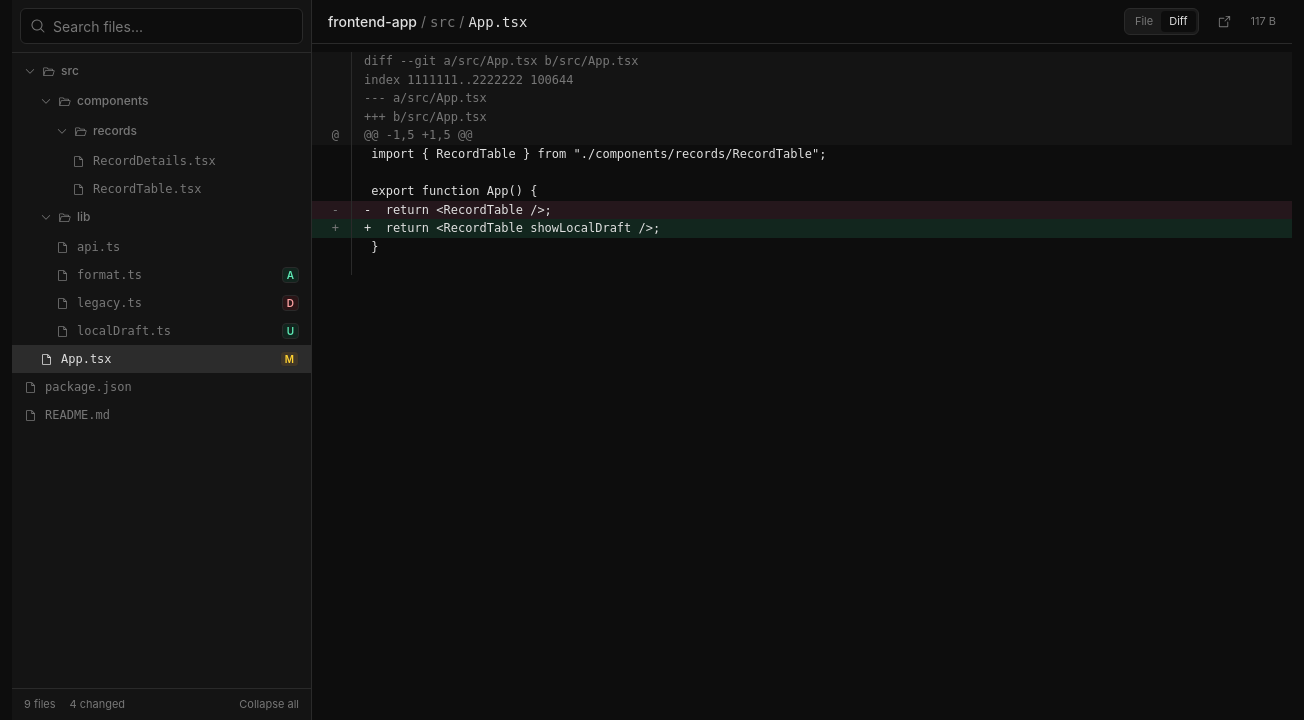
RepositoryExplorerPanel › opens file search with Cmd+F and navigates matches
The image size is (1304, 720).
Check: the text "+ return <RecordTable showLocalDraft />;" is shown, box [364,221,660,235]
Click the button "File" at (1144,22), box [1127,11,1161,32]
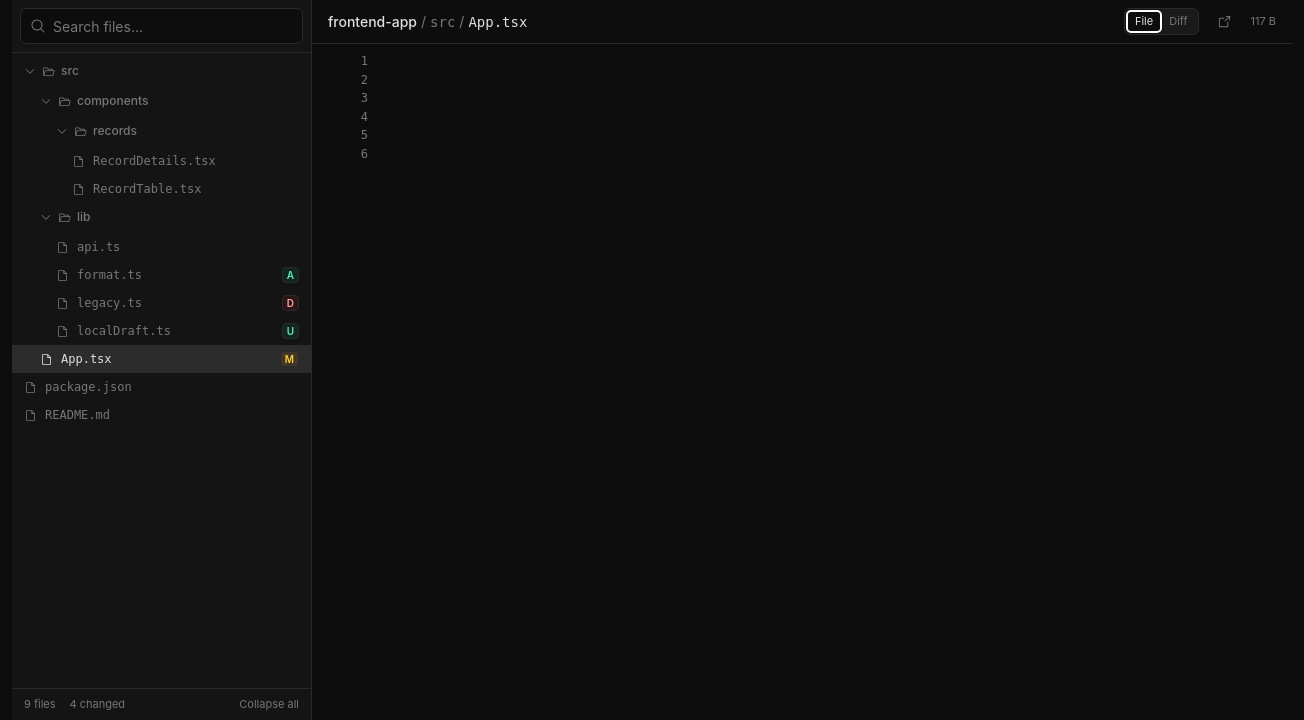
Check: the button named "Select line 4" is shown, box [312,108,1292,126]
Press f
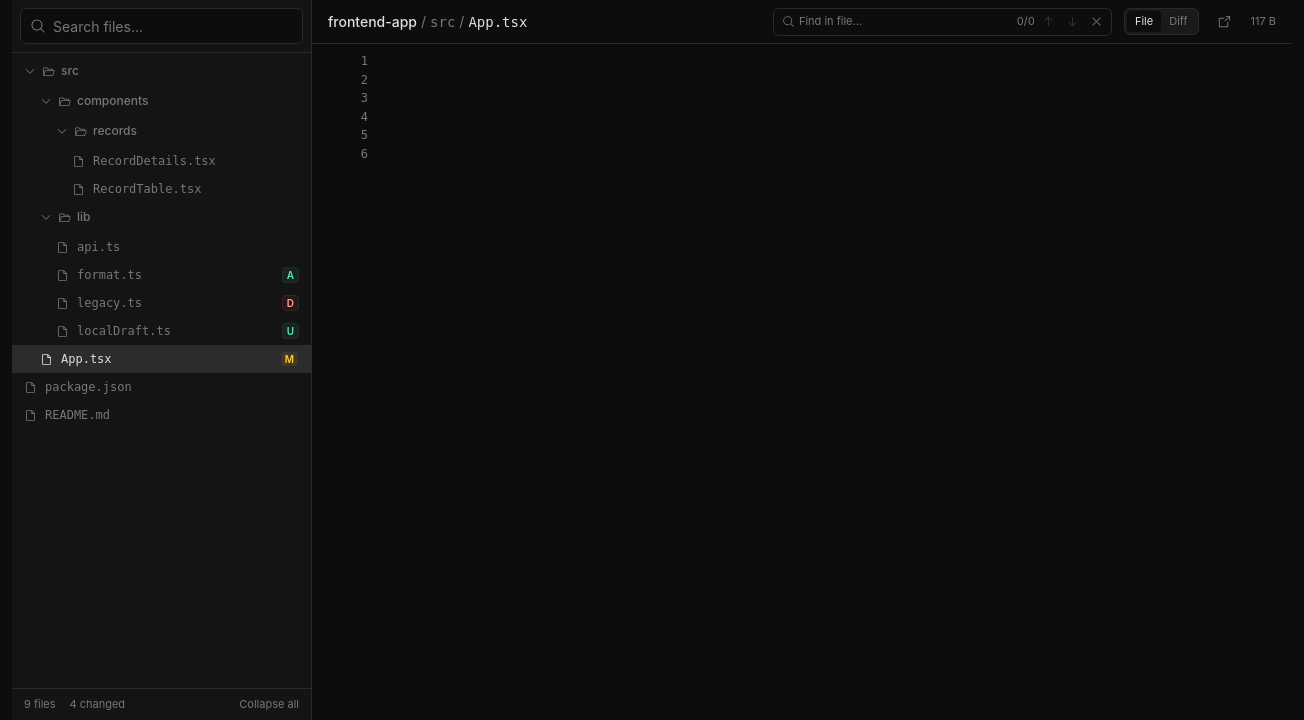
Type "RecordTable" into the search field named "Find in current file" at (887,22), box [799,13,975,30]
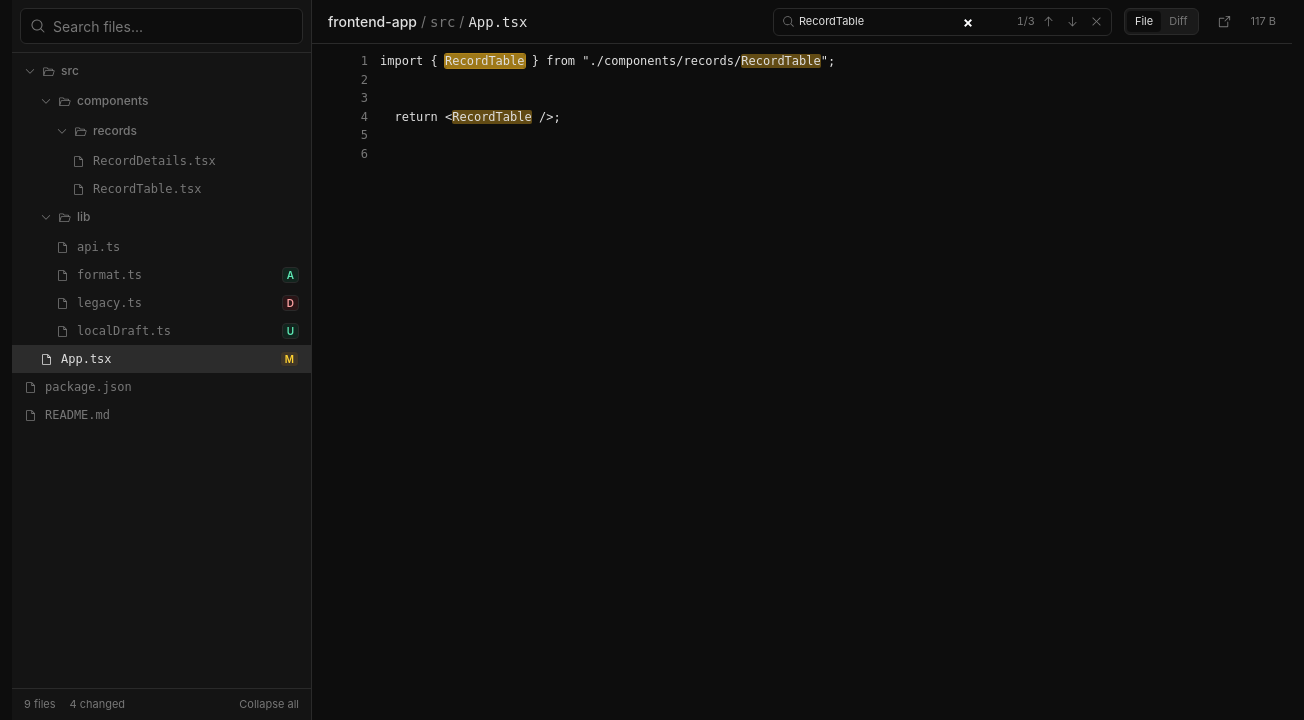
Check: the text "1/3" is shown, box [1017,14,1035,28]
Check: the number of elements with class "repo-find-match" is 3, box [445,54,524,68]; [741,54,821,68]; [452,110,532,124]
Check: the number of elements with class "repo-find-match--active" is 1, box [445,54,524,68]
Click the button named "Next match" at (1073,22), box [1063,12,1083,32]
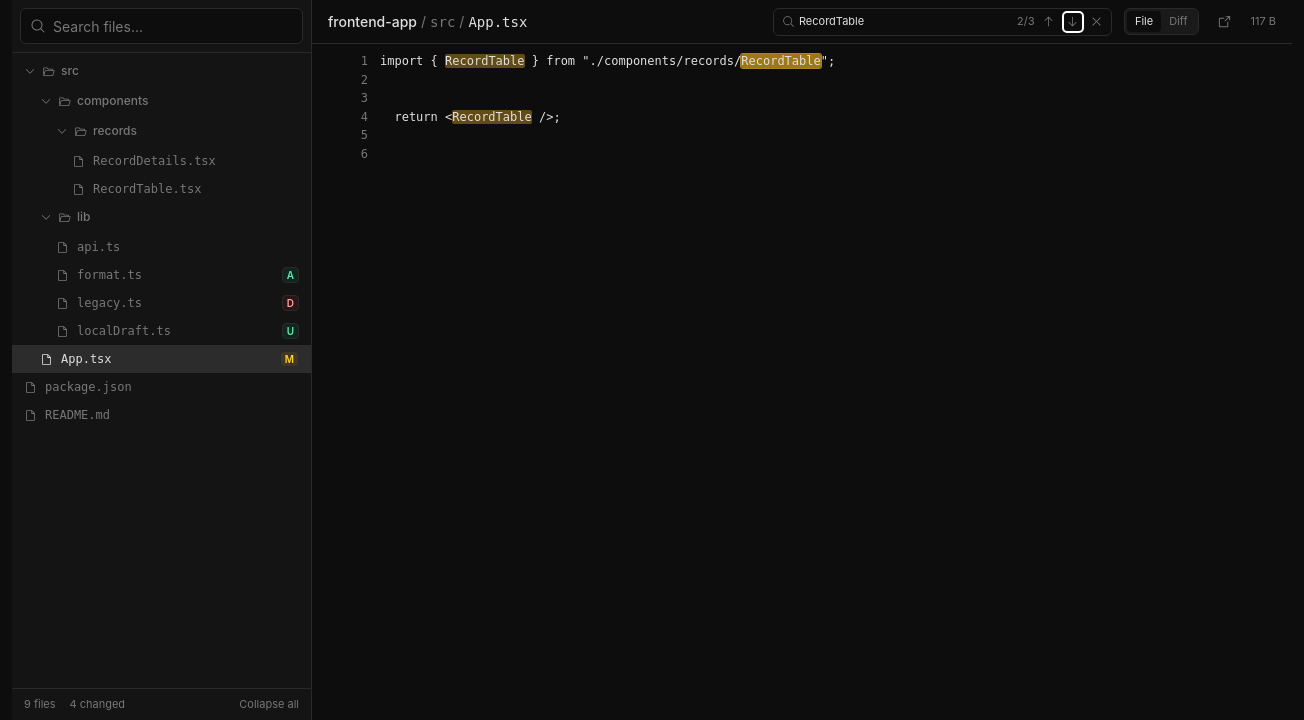
Check: the text "2/3" is shown, box [1017,14,1035,28]
Press Escape
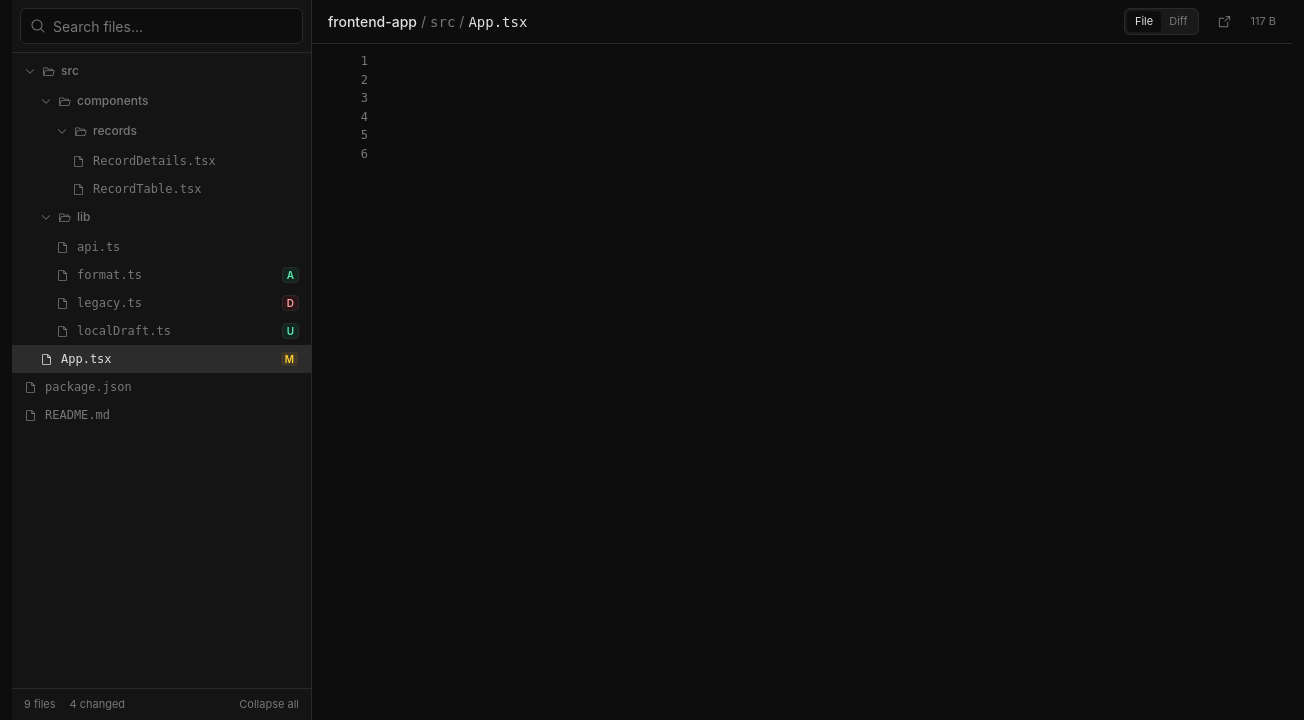
Check: no elements with class "repo-find-match" are shown
